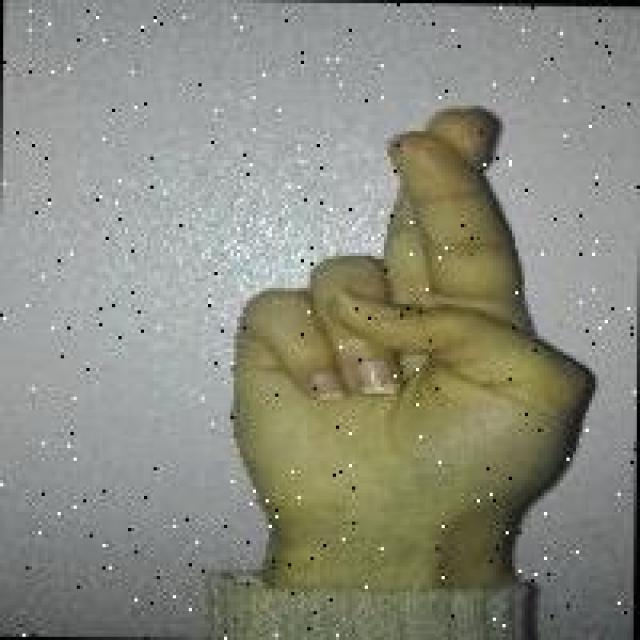R: (226, 87, 603, 586)
